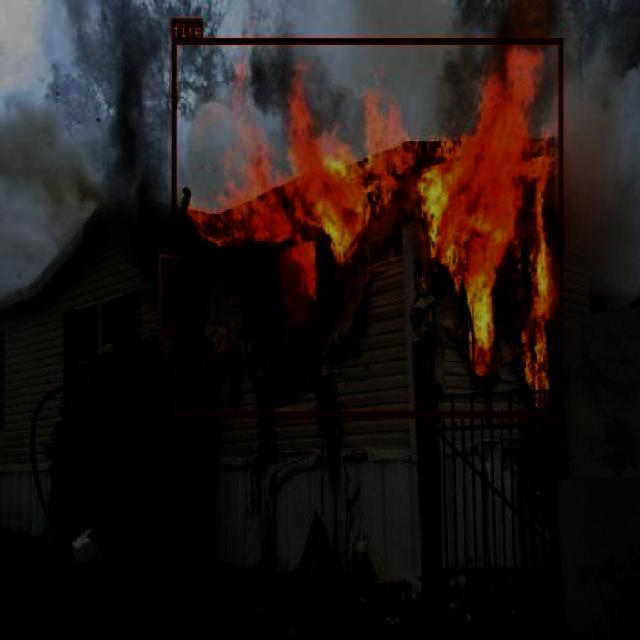fire: (172, 38, 562, 416)
